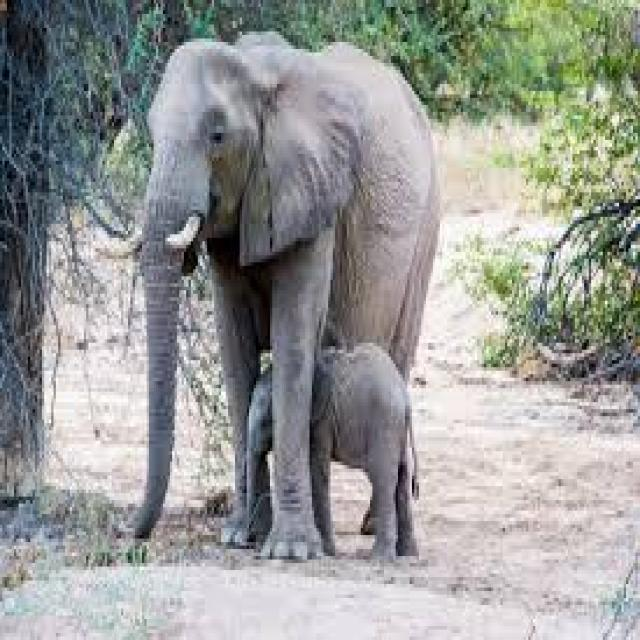Elephant: (102, 28, 442, 556), (244, 339, 419, 560)
